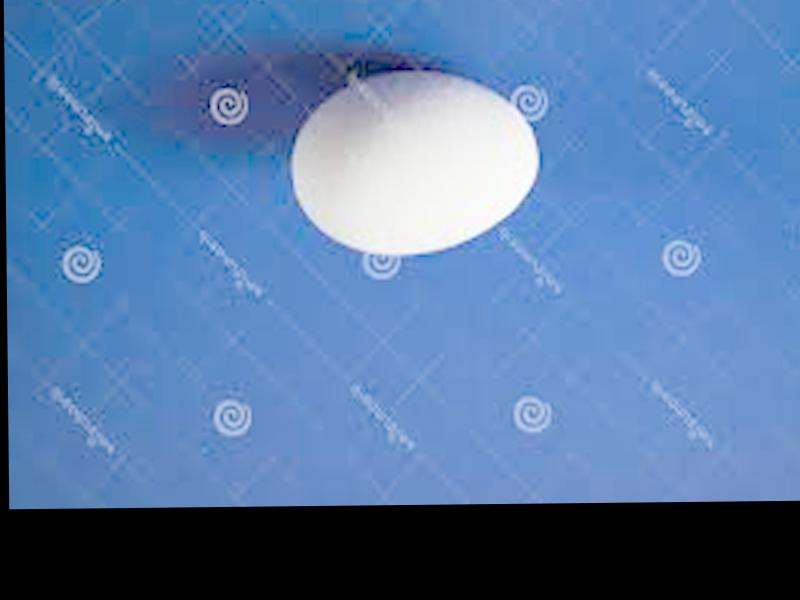Eggs: (289, 69, 540, 254)
